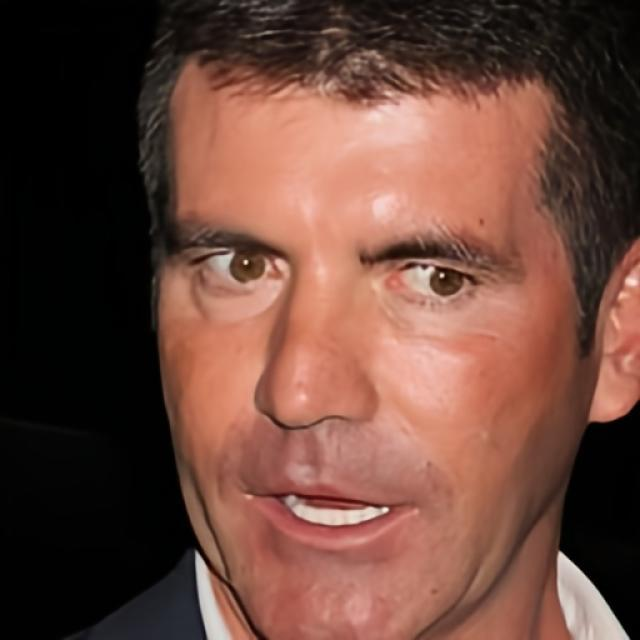fear: (153, 39, 588, 640)
